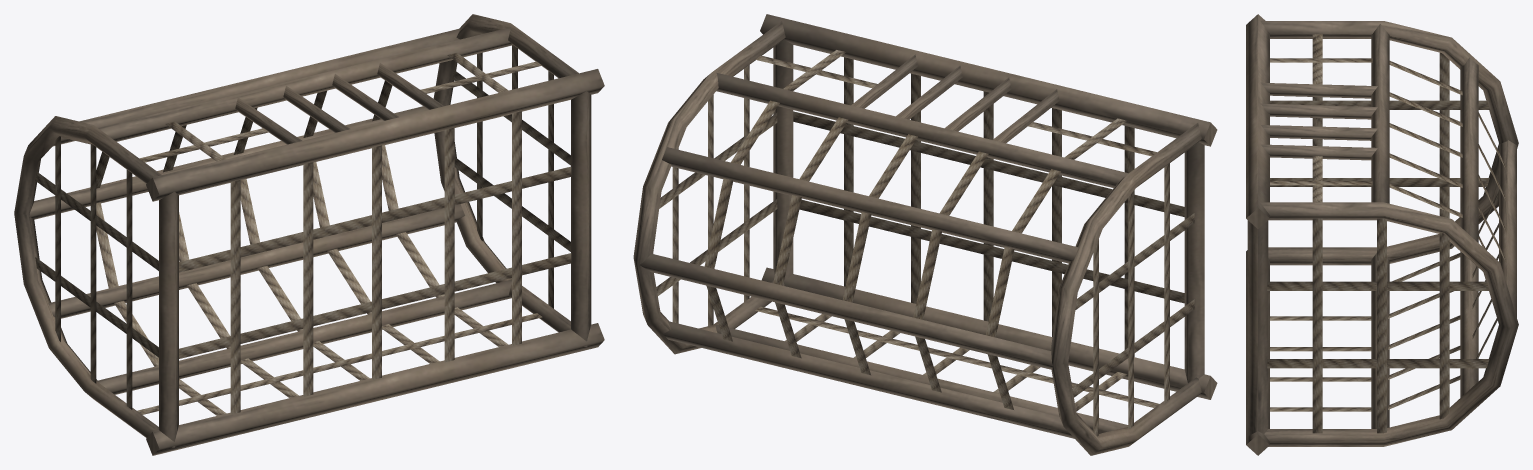
File: Crab_Trap_D.fbx
The picture shows the model from 3 angles, left to right: view 1: azimuth 30°, elevation 25°; view 2: azimuth 150°, elevation 25°; view 3: azimuth 270°, elevation 25°; orthographic projection. The views are drawn at different scales.
Visible parts, largest first — view 1: Crab_Trap_D; view 2: Crab_Trap_D; view 3: Crab_Trap_D.
Part boxes in pixels (left/top/right/bottom): Crab_Trap_D: left=14, top=14, right=604, bottom=455; Crab_Trap_D: left=633, top=14, right=1217, bottom=455; Crab_Trap_D: left=1246, top=14, right=1518, bottom=455.
Size of the model in its own units: 1.29 by 0.7715 by 0.7683.
